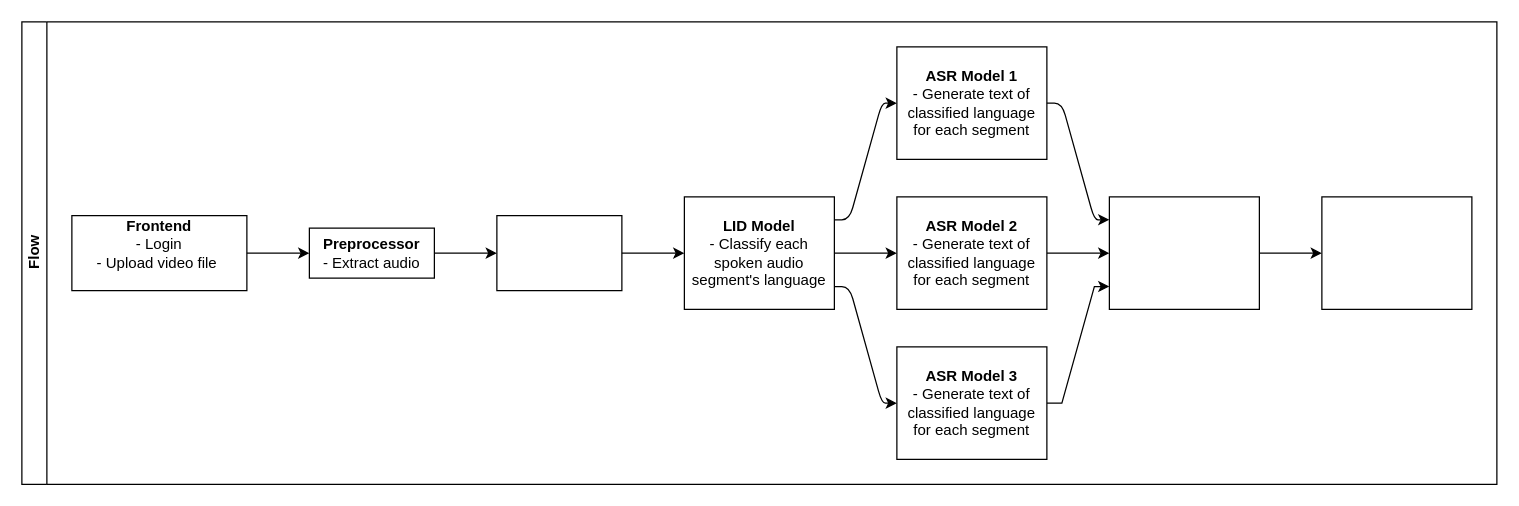
The diagram is 1519 pixels wide and 506 high, and some of its shapes have lost their labels. Here are the shapes that lost their labels. From the top down, the centre of each, then its label:
At point (559, 252): "VAD Model - Extract spoken audio segments".
At point (1183, 252): "Caption Encoder - Encode video with captions at specified timestamps".
At point (1396, 252): "Output video".
